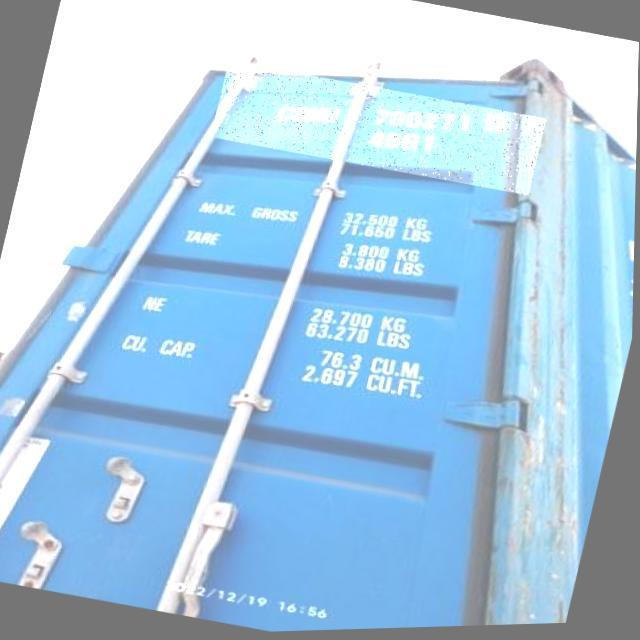container_number_h: (210, 54, 550, 206)
